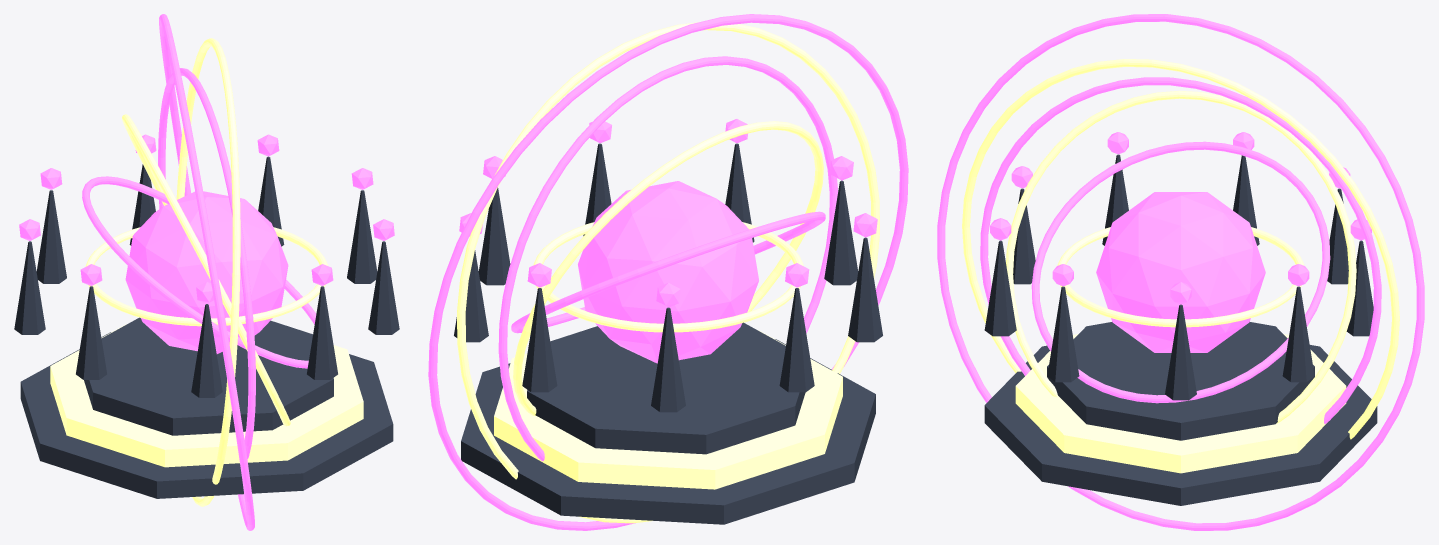
The model's file is gpu-blender-v2.glb.
3 renders of one model, left to right at view 1: azimuth 30°, elevation 25°; view 2: azimuth 150°, elevation 25°; view 3: azimuth 270°, elevation 25°, orthographic. The views are drawn at different scales.
Parts seen in each view (by area): view 1: Cylinder.002, Cylinder, SovereignCore_envguard-secrets-vault, Cylinder.001, Torus.005, Torus.004, Torus.003, Torus.001, Torus.002, Torus, Cone.006, Cone.004 (+7 smaller); view 2: Cylinder.002, SovereignCore_envguard-secrets-vault, Cylinder, Cylinder.001, Torus.005, Torus.004, Torus.003, Torus.002, Torus.001, Torus, Cone.003, Cone.005 (+7 smaller); view 3: SovereignCore_envguard-secrets-vault, Cylinder.002, Cylinder, Cylinder.001, Torus.005, Torus.004, Torus.003, Torus.002, Torus.001, Torus, Cone, Cone.001 (+7 smaller).
Part boxes in pixels (x1,y1,x2,y2): Cylinder.002: [84, 317, 333, 435]; Cylinder: [20, 332, 393, 498]; SovereignCore_envguard-secrets-vault: [125, 191, 288, 353]; Cylinder.001: [50, 324, 363, 467]; Torus.005: [159, 14, 254, 530]; Torus.004: [176, 38, 240, 506]; Torus.003: [158, 68, 255, 459]; Torus.001: [82, 176, 316, 368]; Torus.002: [122, 114, 290, 426]; Torus: [85, 227, 327, 326]; Cone.006: [191, 304, 222, 397]; Cone.004: [14, 241, 45, 334]; Cylinder.002: [527, 322, 805, 454]; SovereignCore_envguard-secrets-vault: [578, 181, 758, 363]; Cylinder: [461, 339, 875, 524]; Cylinder.001: [494, 330, 842, 489]; Torus.005: [428, 14, 908, 530]; Torus.004: [457, 22, 879, 523]; Torus.003: [498, 56, 838, 461]; Torus.002: [513, 121, 823, 415]; Torus.001: [511, 211, 825, 333]; Torus: [533, 222, 803, 332]; Cone.003: [651, 307, 685, 412]; Cone.005: [848, 237, 882, 342]; SovereignCore_envguard-secrets-vault: [1096, 192, 1265, 352]; Cylinder.002: [1047, 322, 1314, 440]; Cylinder: [984, 345, 1377, 505]; Cylinder.001: [1015, 334, 1346, 473]; Torus.005: [937, 14, 1424, 530]; Torus.004: [962, 59, 1399, 439]; Torus.003: [980, 77, 1381, 423]; Torus.002: [1006, 90, 1356, 423]; Torus.001: [1031, 141, 1330, 403]; Torus: [1057, 227, 1304, 327]; Cone: [1165, 304, 1196, 400]; Cone.001: [1282, 286, 1314, 382].
Size of the model in its own units: 4.41 by 5.93 by 5.46.
